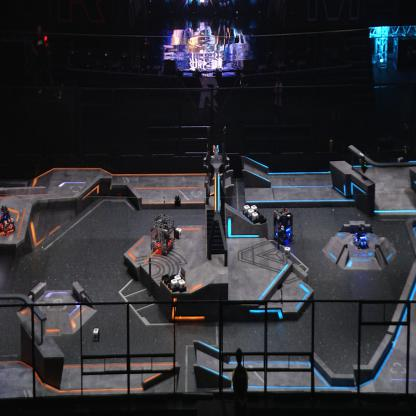car: (150, 212, 176, 254), (273, 205, 293, 242), (352, 224, 369, 250), (0, 206, 15, 235)
